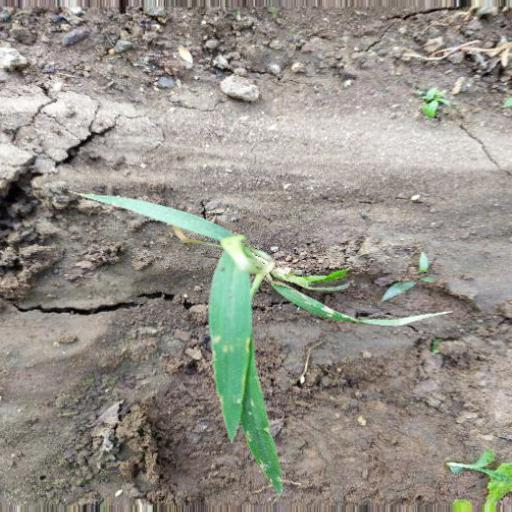weed: (62, 170, 458, 500)
